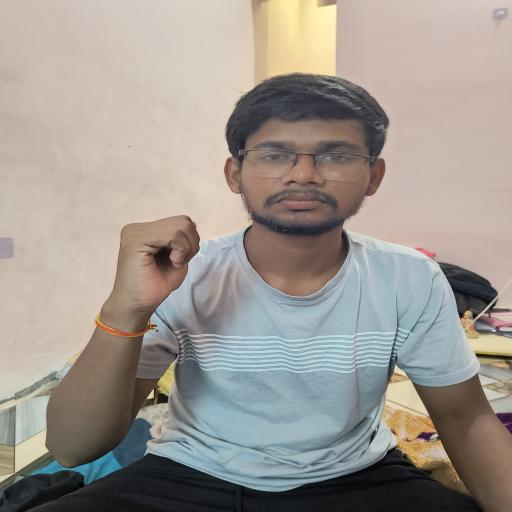wait: (85, 198, 244, 342)
